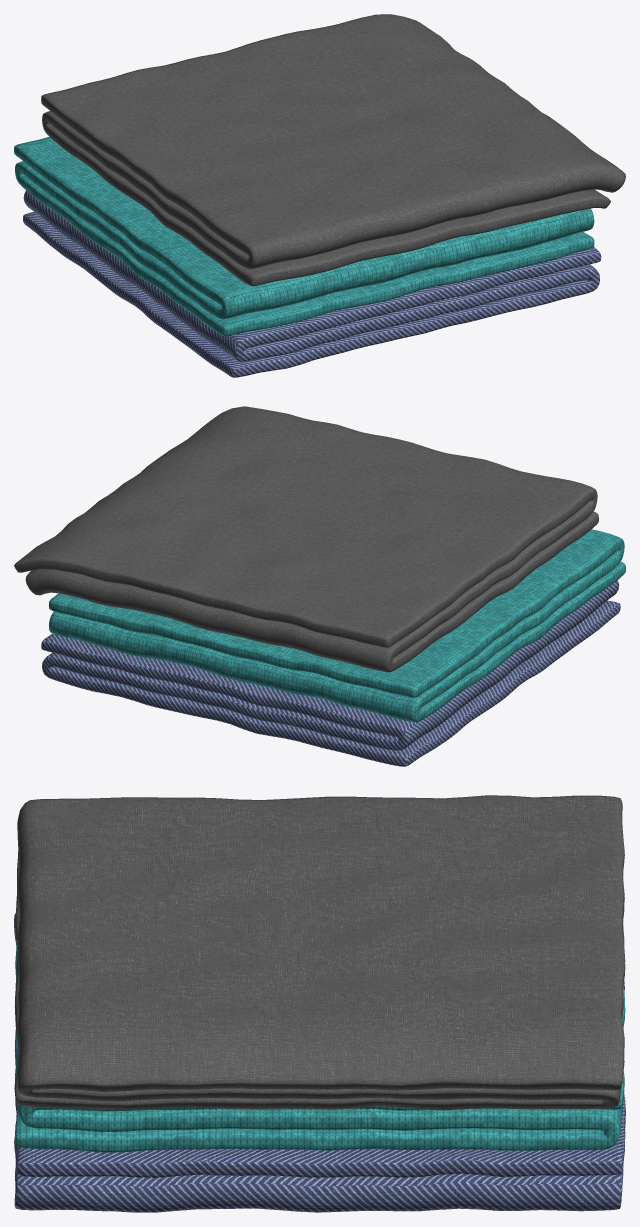
The model's file is toallas.obj.
The picture shows the model from 3 angles, top to bottom: view 1: azimuth 30°, elevation 25°; view 2: azimuth 150°, elevation 25°; view 3: azimuth 270°, elevation 25°; orthographic projection. The views are drawn at different scales.
Visible parts, largest first — view 1: toalla; view 2: toalla; view 3: toalla.
Part boxes in pixels (box(x1,y1,x2,y2)): toalla: box(14, 14, 625, 377); toalla: box(14, 406, 625, 766); toalla: box(14, 795, 625, 1212).
Size of the model in its own units: 0.3918 by 0.1198 by 0.3585.
Materials: 3 (3 with a texture image).
